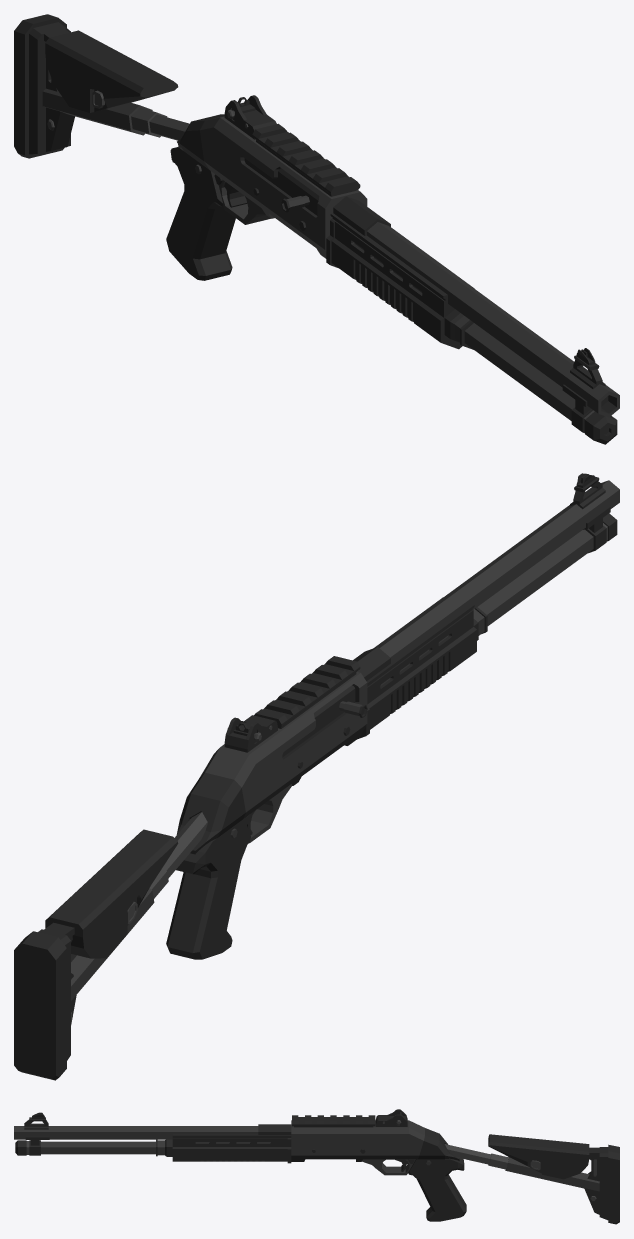
3 views of the same model, one above another, from view 1: azimuth 30°, elevation 25°; view 2: azimuth 150°, elevation 25°; view 3: azimuth 270°, elevation 25° (orthographic). The views are drawn at different scales.
Parts seen in each view (by area): view 1: O_m1014__Body; view 2: O_m1014__Body; view 3: O_m1014__Body.
Boxes of the visible parts, <box> form: O_m1014__Body: <box>14,14,619,444</box>; O_m1014__Body: <box>14,473,619,1080</box>; O_m1014__Body: <box>14,1109,619,1224</box>.
Bounding box in the file's own units: 0.1791 × 0.5552 × 2.83.
Materials: 1 (1 with a texture image).
